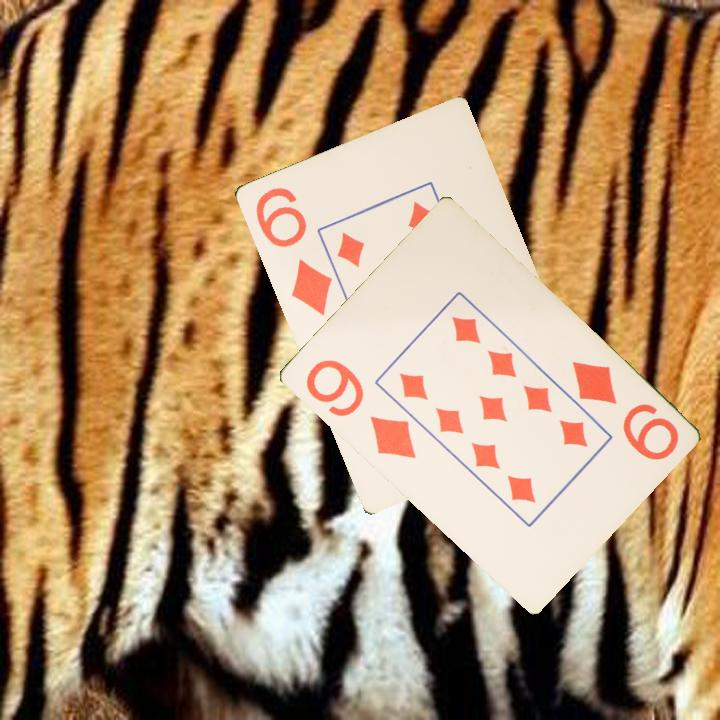6d: (251, 183, 335, 319)
9d: (301, 356, 419, 462), (567, 357, 682, 464)
